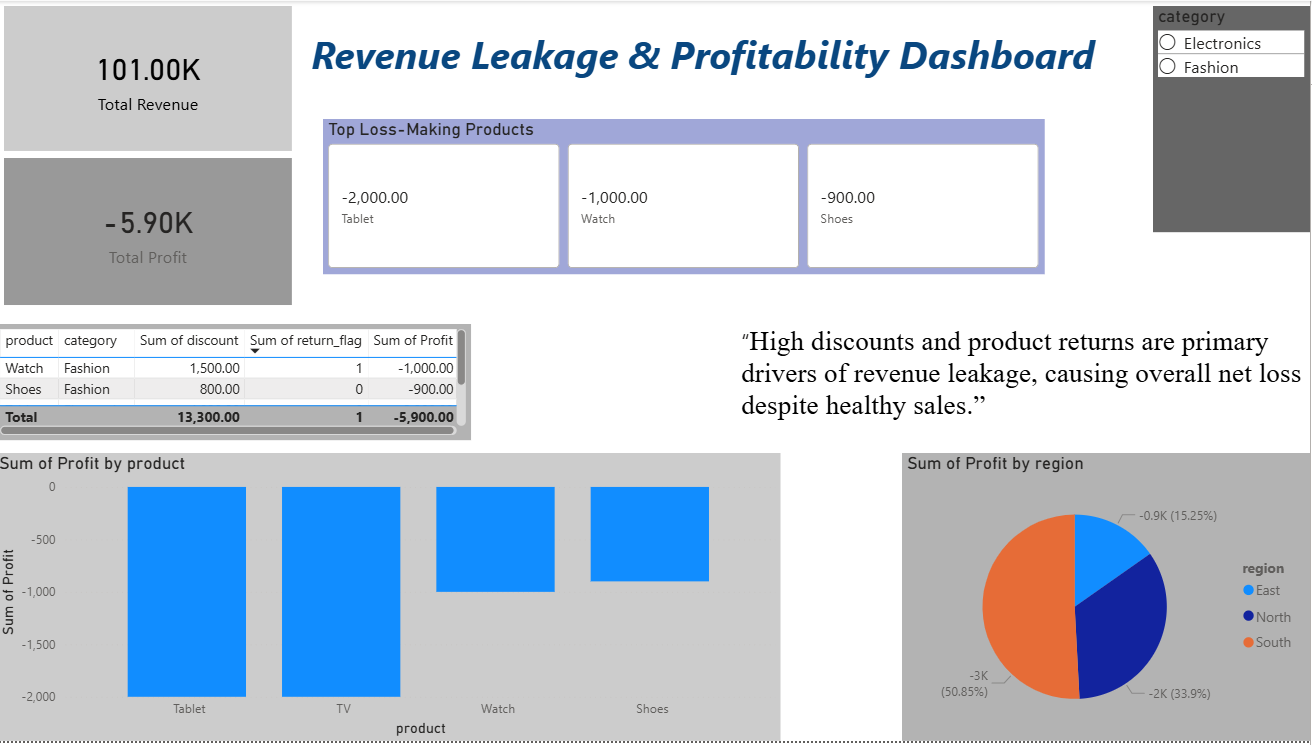

This screenshot's page, from the dashboard's own definition file:
{"tool":"powerbi","page":{"name":"Page 1","canvas":[1280,720],"ordinal":0},"visuals":[{"type":"card","fields":{"Values":["Sum(revenue_analysis sales.price)"]},"box":[9.7,4.9,280.1,141],"z":0},{"type":"card","fields":{"Values":["Sum(revenue_analysis sales.Profit)"]},"box":[9.7,152.7,280.1,143],"z":1000},{"type":"clusteredColumnChart","fields":{"Category":["revenue_analysis sales.product"],"Y":["Sum(revenue_analysis sales.Profit)"]},"box":[0,439.6,765.5,280.1],"z":2000},{"type":"pieChart","fields":{"Category":["revenue_analysis sales.region"],"Y":["Sum(revenue_analysis sales.Profit)"]},"box":[883.2,439.6,396.8,280.1],"z":3000},{"type":"tableEx","fields":{"Values":["revenue_analysis sales.product","revenue_analysis sales.category","Sum(revenue_analysis sales.discount)","Sum(revenue_analysis sales.return_flag)","Sum(revenue_analysis sales.Profit)"]},"box":[0,314.2,464,112.8],"z":4000},{"type":"listSlicer","fields":{"Values":["revenue_analysis sales.category"]},"box":[1127.3,4.9,152.7,219.8],"z":5000},{"type":"textbox","box":[303.5,21.4,791.7,93.4],"z":6000},{"type":"advancedSlicerVisual","title":"Top Loss-Making Products","fields":{"Values":["revenue_analysis sales.Profit"],"Label":["Min(revenue_analysis sales.product)"]},"box":[320,114.8,702.2,150.8],"z":8000},{"type":"textbox","box":[721.7,293.7,558.3,131.3],"z":8001}]}

Visuals, with their boxes in screenshot pixels (x1, y1, x2, y2), scaled from the page's 1280x720 canvas onto the 1312x745 screenshot:
card - Sum(revenue_analysis sales.price): left=10, top=5, right=297, bottom=151
card - Sum(revenue_analysis sales.Profit): left=10, top=158, right=297, bottom=306
clusteredColumnChart - revenue_analysis sales.product x Sum(revenue_analysis sales.Profit): left=0, top=455, right=785, bottom=744
pieChart - revenue_analysis sales.region x Sum(revenue_analysis sales.Profit): left=905, top=455, right=1311, bottom=744
tableEx - revenue_analysis sales.product x revenue_analysis sales.category: left=0, top=325, right=476, bottom=442
listSlicer - revenue_analysis sales.category: left=1155, top=5, right=1311, bottom=233
textbox: left=311, top=22, right=1123, bottom=119
"Top Loss-Making Products" advancedSlicerVisual: left=328, top=119, right=1048, bottom=275
textbox: left=740, top=304, right=1311, bottom=440
